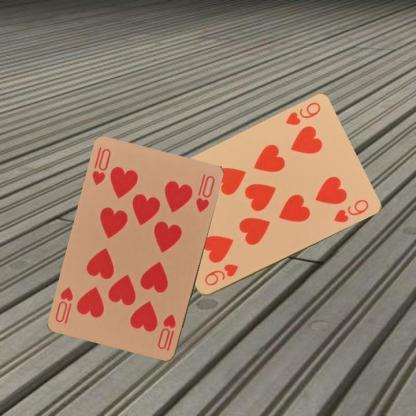10h: (89, 146, 113, 187), (155, 311, 177, 353)
9h: (282, 99, 322, 127), (201, 261, 239, 288)
